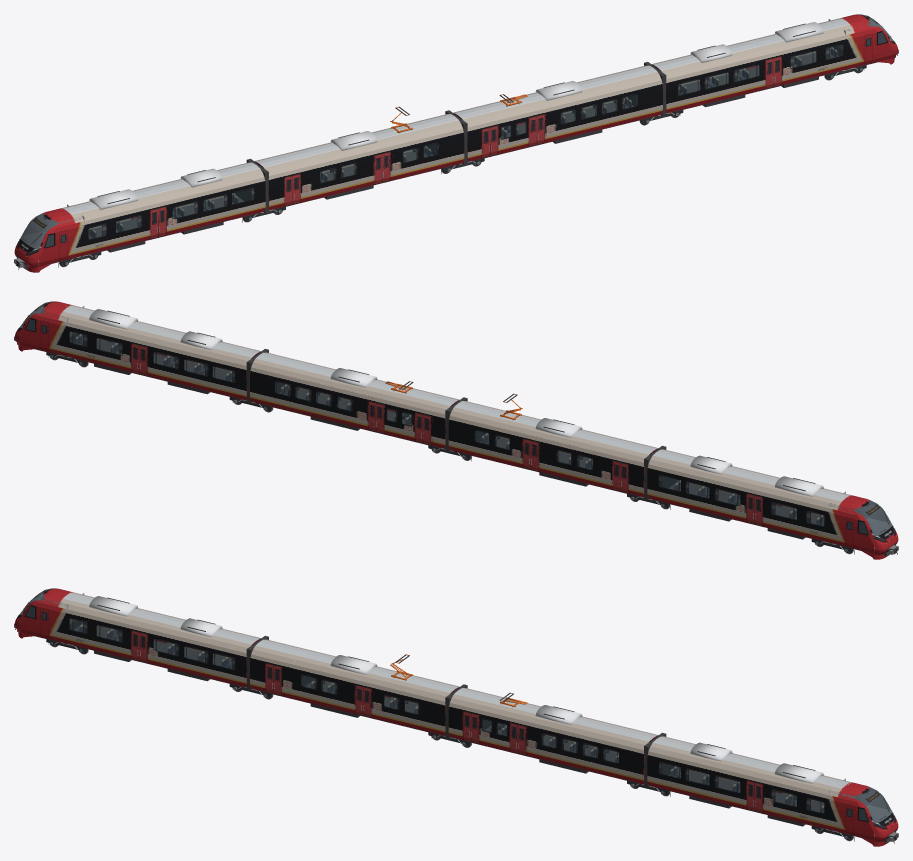
The model's file is SKM.glb.
3 renders of one model, top to bottom at view 1: azimuth 30°, elevation 25°; view 2: azimuth 150°, elevation 25°; view 3: azimuth 330°, elevation 25°, orthographic.
Parts seen in each view (by area): view 1: IMP_czlon1, IMP_czlon4, IMP_czlon2, IMP_czlon3, Szyby boczne i uszczelki, Wnętrze pasażerskie, IMP_dach, IMP_guma, IMP_rama, KABINA_WN_0, IMP_harm, SZYBA_CZ_0; view 2: IMP_czlon1, IMP_czlon4, IMP_czlon2, IMP_czlon3, Szyby boczne i uszczelki, Wnętrze pasażerskie, IMP_dach, IMP_guma, IMP_rama, IMP_harm, KABINA_WN_0, SZYBA_CZ_0; view 3: IMP_czlon4, IMP_czlon1, IMP_czlon2, IMP_czlon3, Szyby boczne i uszczelki, Wnętrze pasażerskie, IMP_dach, IMP_guma, IMP_rama, KABINA_WN_1, IMP_harm, SZYBA_CZ_1.
Boxes of the visible parts, box(x1,y1,x2,y2) form: IMP_czlon1: box(14, 162, 265, 266); IMP_czlon4: box(651, 14, 898, 113); IMP_czlon2: box(254, 114, 464, 210); IMP_czlon3: box(453, 65, 662, 161); Szyby boczne i uszczelki: box(88, 44, 843, 239); Wnętrze pasażerskie: box(88, 46, 843, 239); IMP_dach: box(89, 22, 823, 209); IMP_guma: box(17, 44, 897, 269); IMP_rama: box(52, 23, 876, 263); KABINA_WN_0: box(21, 213, 82, 248); IMP_harm: box(246, 62, 666, 212); SZYBA_CZ_0: box(20, 212, 58, 249); IMP_czlon1: box(647, 449, 898, 553); IMP_czlon4: box(14, 301, 261, 400); IMP_czlon2: box(448, 401, 658, 497); IMP_czlon3: box(250, 352, 459, 448); Szyby boczne i uszczelki: box(69, 331, 824, 526); Wnętrze pasażerskie: box(69, 333, 824, 526); IMP_dach: box(89, 309, 823, 496); IMP_guma: box(72, 331, 897, 554); IMP_rama: box(36, 310, 860, 550); IMP_harm: box(246, 349, 666, 499); KABINA_WN_0: box(830, 500, 891, 535); SZYBA_CZ_0: box(854, 499, 892, 536); IMP_czlon4: box(647, 736, 898, 840); IMP_czlon1: box(14, 588, 261, 687); IMP_czlon2: box(250, 639, 459, 735); IMP_czlon3: box(448, 688, 658, 784); Szyby boczne i uszczelki: box(69, 618, 824, 813); Wnętrze pasażerskie: box(69, 620, 824, 813); IMP_dach: box(89, 596, 823, 783); IMP_guma: box(15, 618, 895, 843); IMP_rama: box(36, 597, 860, 837); KABINA_WN_1: box(837, 787, 891, 822); IMP_harm: box(246, 636, 666, 786); SZYBA_CZ_1: box(854, 786, 892, 823).
Size of the model in its own units: 75.6 by 5.6 by 2.97.
Materials: 53 (7 with a texture image).
